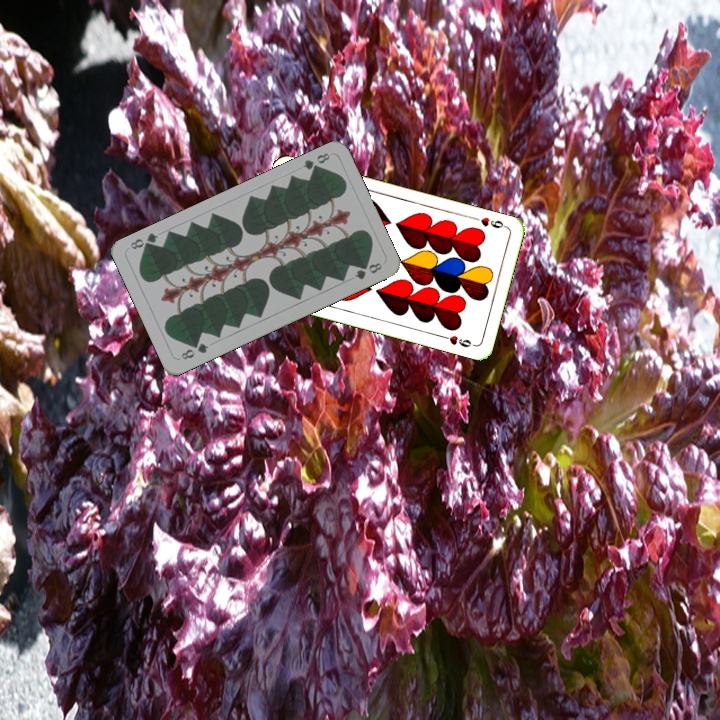G8: (299, 149, 332, 175), (177, 339, 211, 362)
H9: (469, 213, 509, 231)
